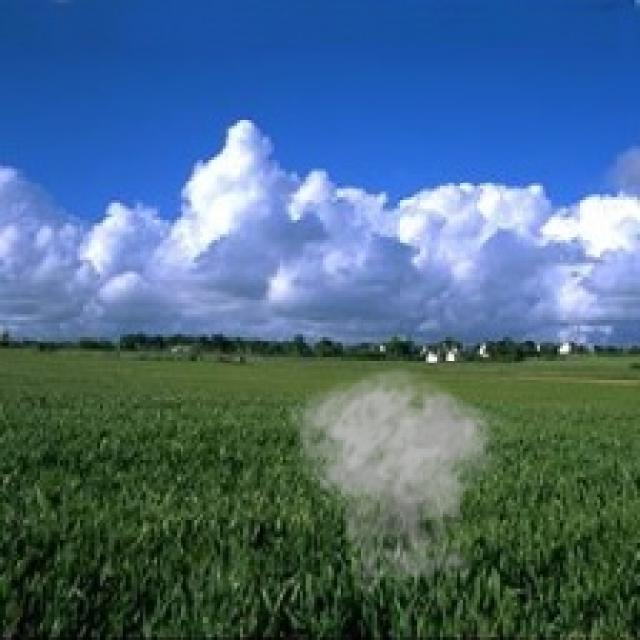smoke: (286, 366, 514, 597)
